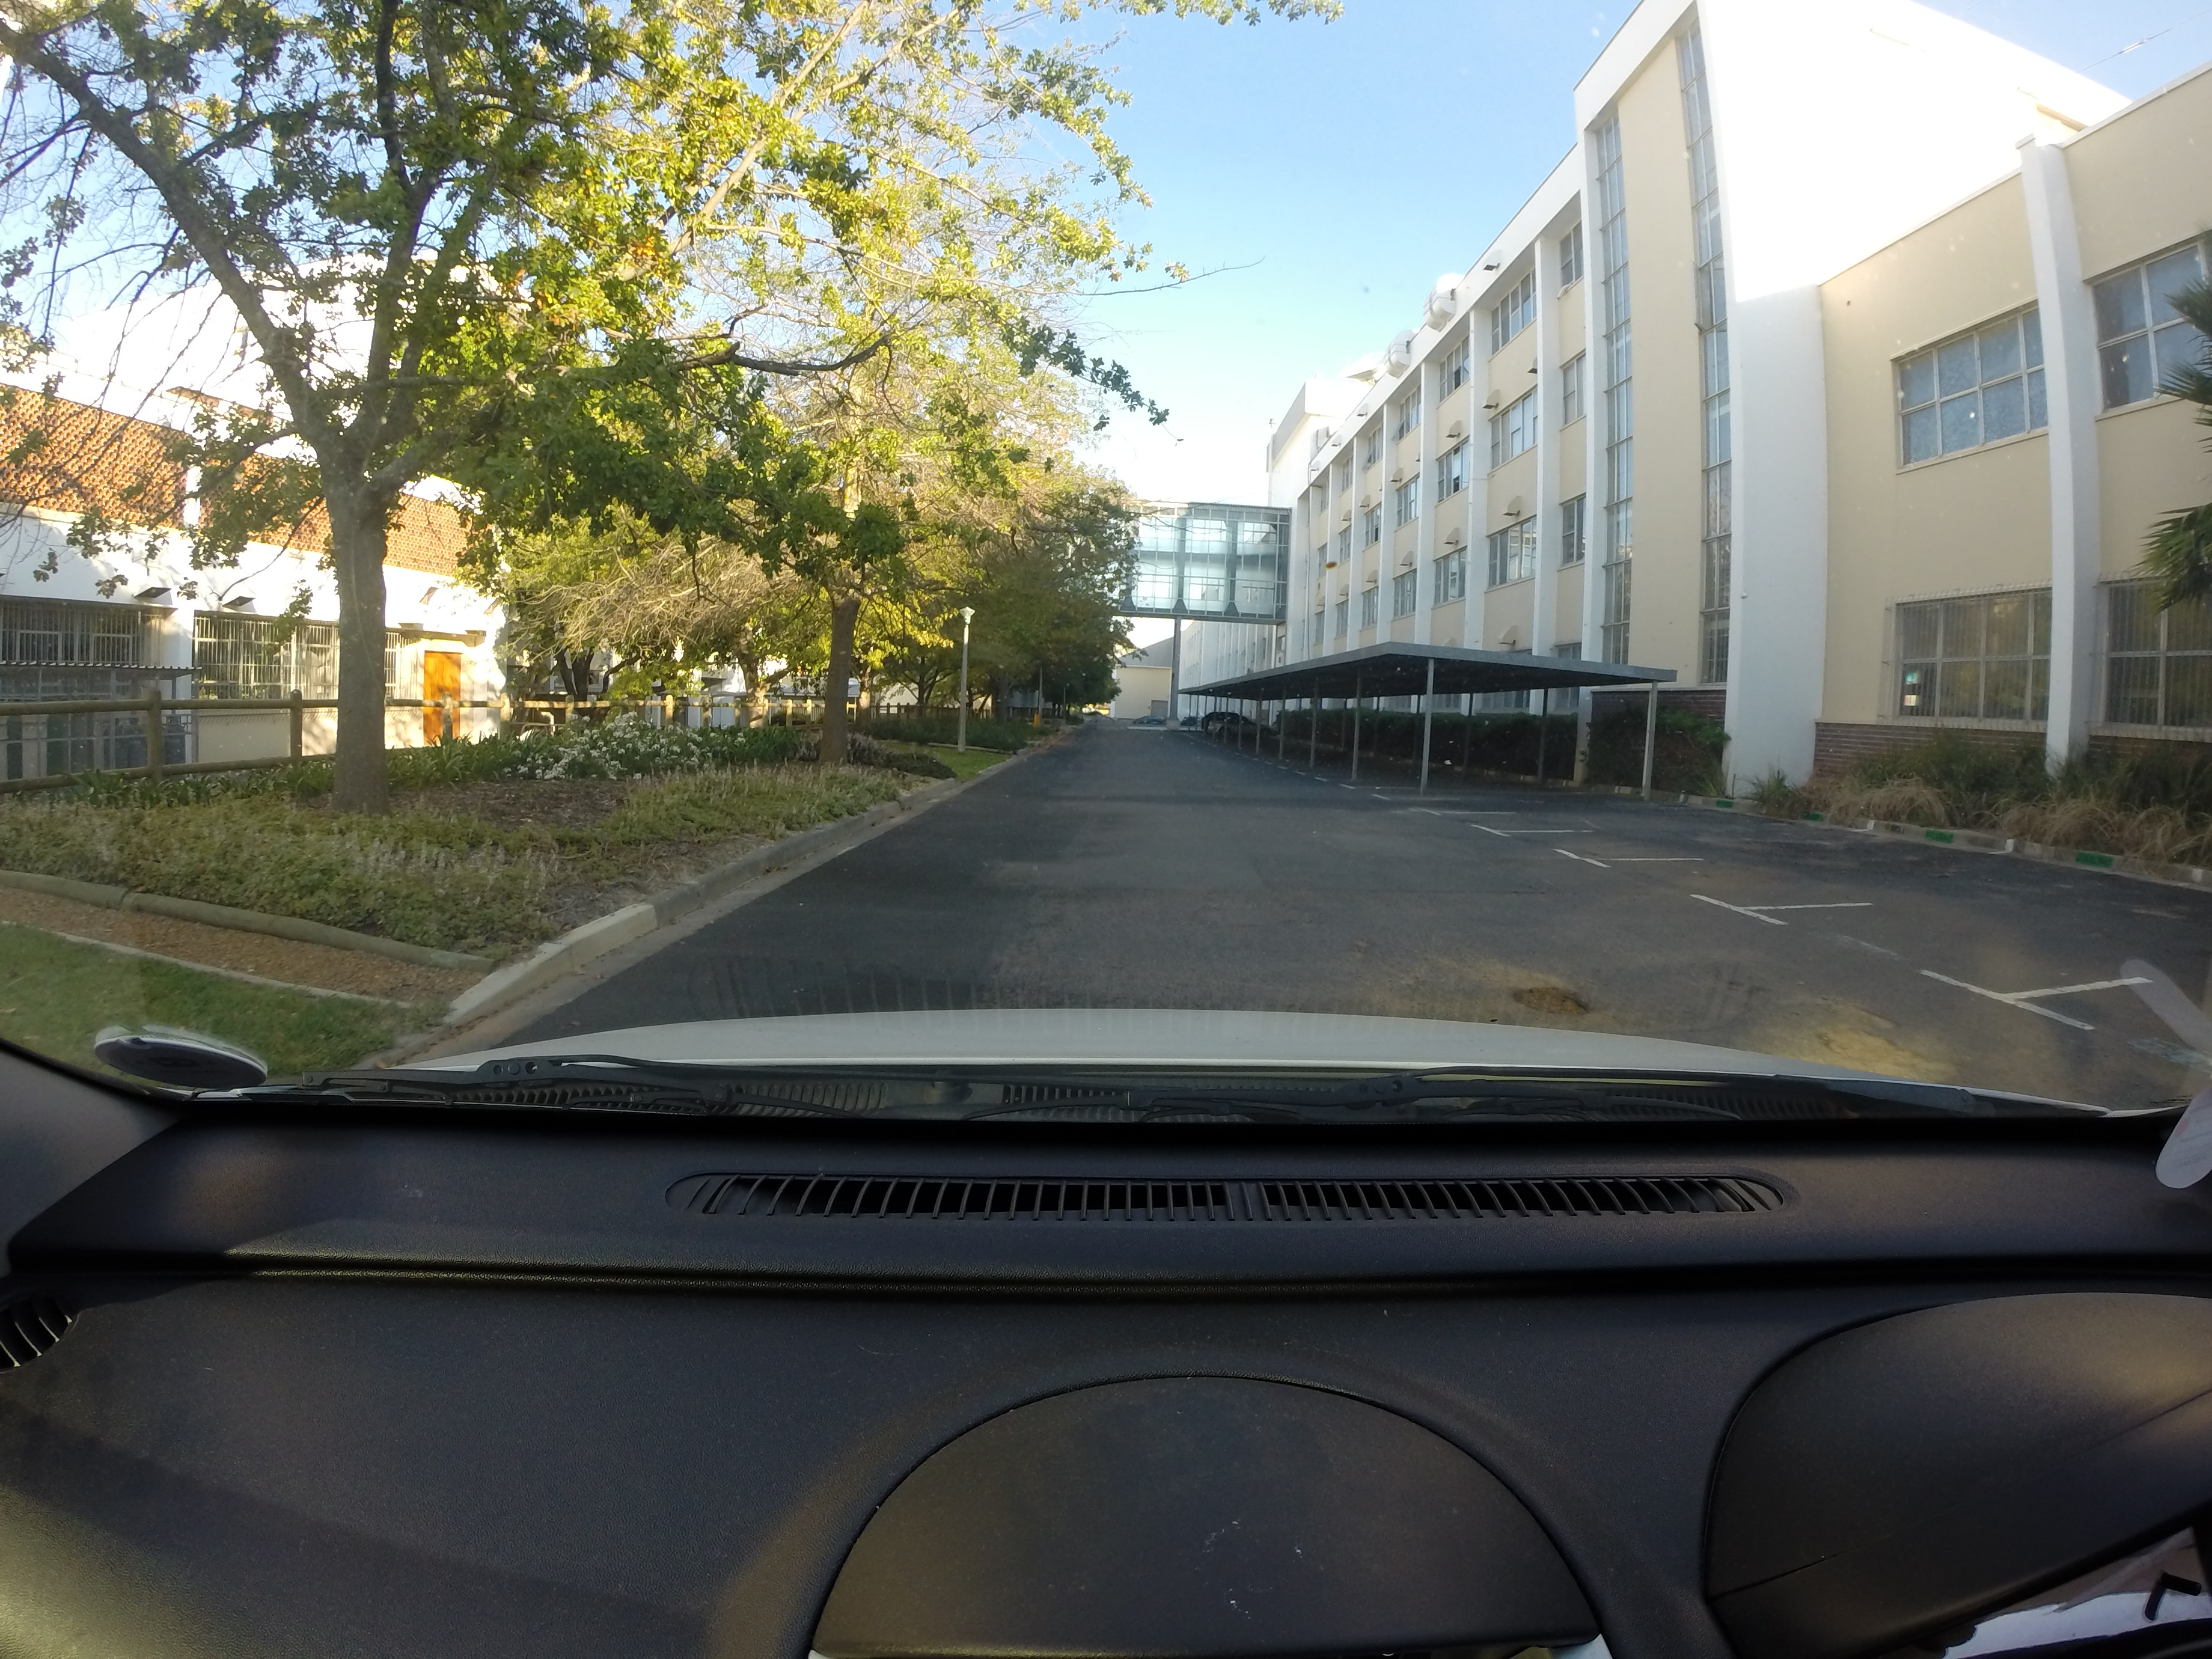pothole: (1491, 967, 1627, 1023)
